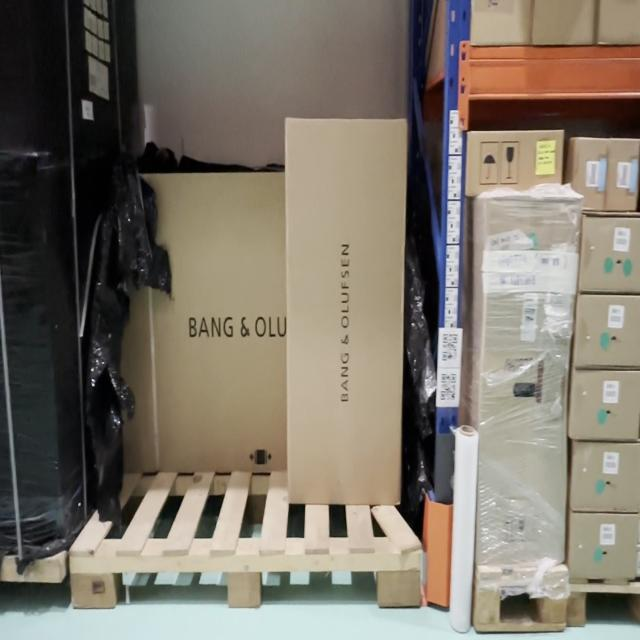box: (112, 172, 284, 469), (287, 119, 398, 502), (475, 198, 581, 565), (470, 133, 561, 191), (572, 444, 640, 509), (572, 514, 640, 578), (575, 372, 638, 441), (577, 298, 640, 366), (584, 216, 640, 292), (609, 142, 636, 208), (578, 142, 604, 208)
